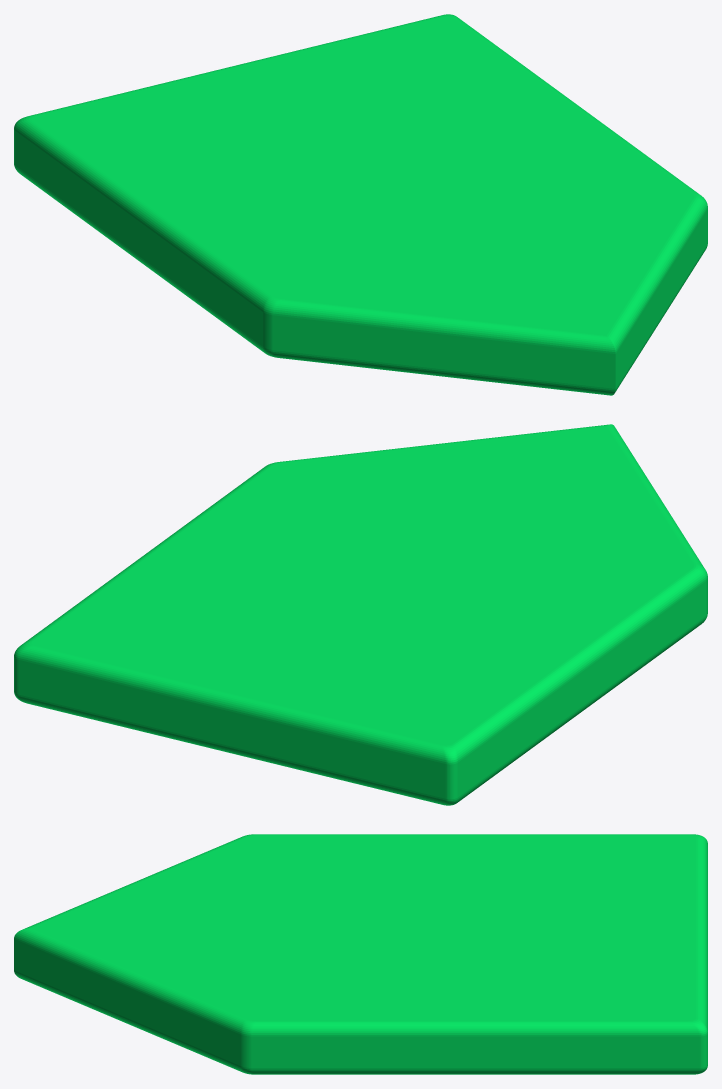
Rendered from VolunteeringMarker.glb.
3 views of the same model, one above another, from view 1: azimuth 30°, elevation 25°; view 2: azimuth 150°, elevation 25°; view 3: azimuth 270°, elevation 25° (orthographic). The views are drawn at different scales.
Parts seen in each view (by area): view 1: NurbsPath; view 2: NurbsPath; view 3: NurbsPath.
Part boxes in pixels (left/top/right/bottom): NurbsPath: left=14, top=14, right=707, bottom=395; NurbsPath: left=14, top=424, right=707, bottom=805; NurbsPath: left=14, top=834, right=707, bottom=1074.
Bounding box in the file's own units: 2 × 0.25 × 3.
